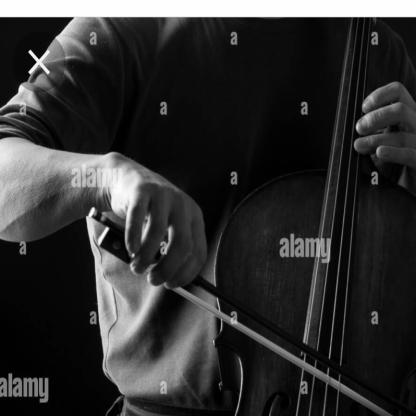good: (110, 150, 220, 298)
